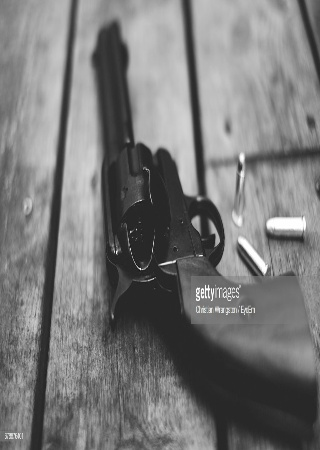handgun: (90, 15, 320, 425)
